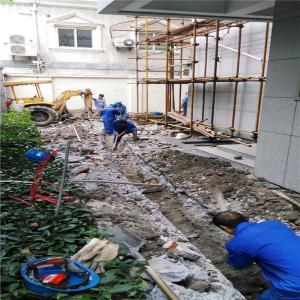blue: (110, 104, 119, 109), (116, 101, 123, 106)
none: (214, 209, 250, 234), (118, 119, 129, 127), (98, 95, 105, 99)
